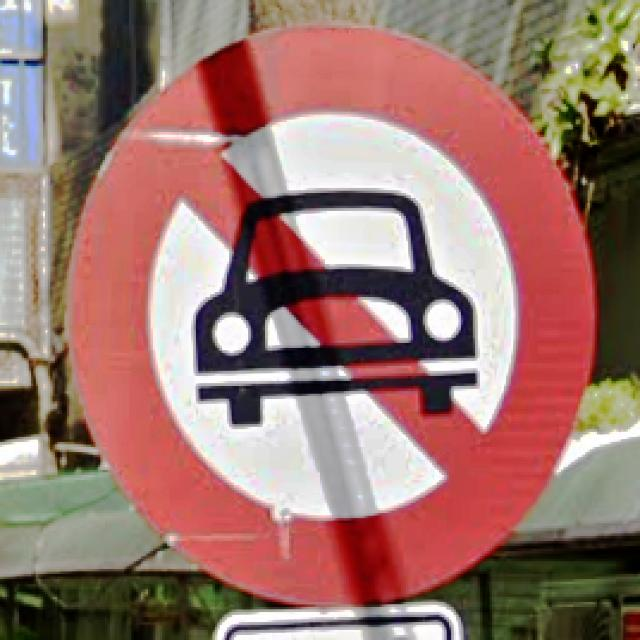nocar: (67, 20, 597, 610)
